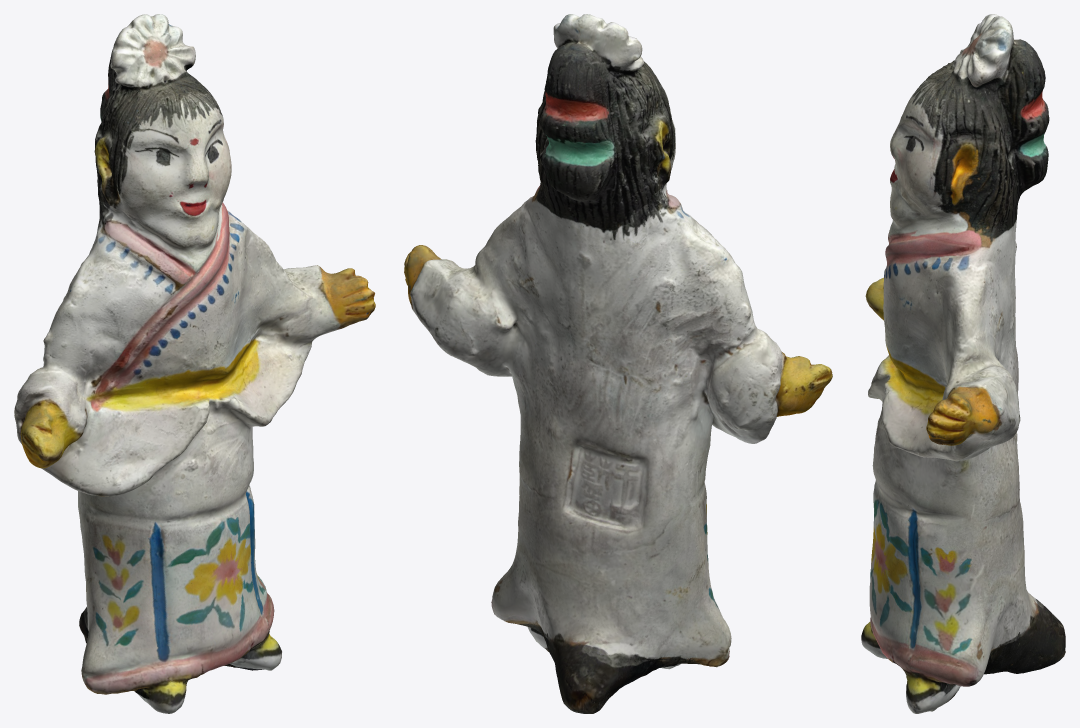
3 renders of one model, left to right at view 1: azimuth 30°, elevation 25°; view 2: azimuth 150°, elevation 25°; view 3: azimuth 270°, elevation 25°, orthographic. The views are drawn at different scales.
Bounding box in the file's own units: 0.6146 × 1.02 × 0.2902.
1 material, 1 textured.
